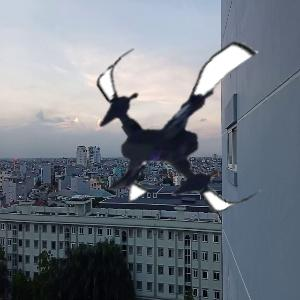drone: (83, 24, 289, 230)
